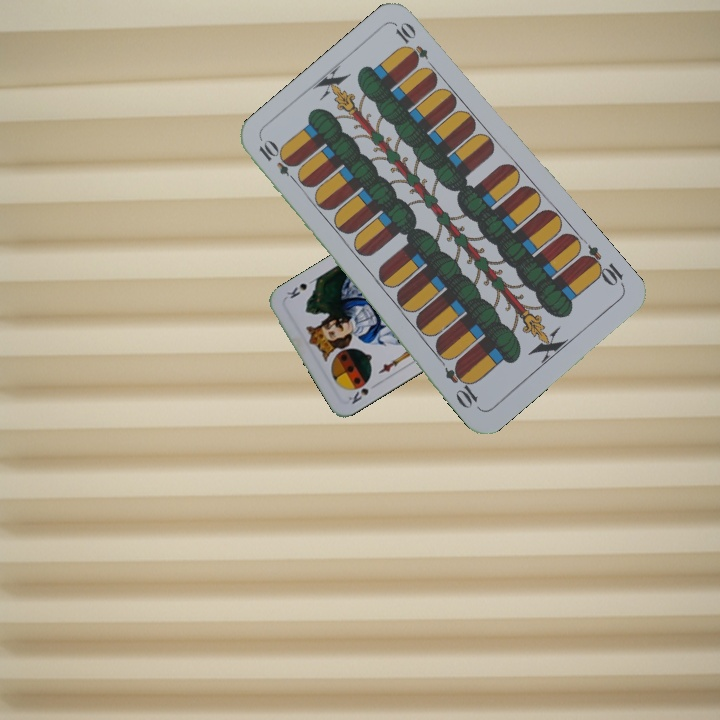E10: (577, 241, 627, 290), (254, 137, 302, 187)
SK: (344, 384, 371, 407)
